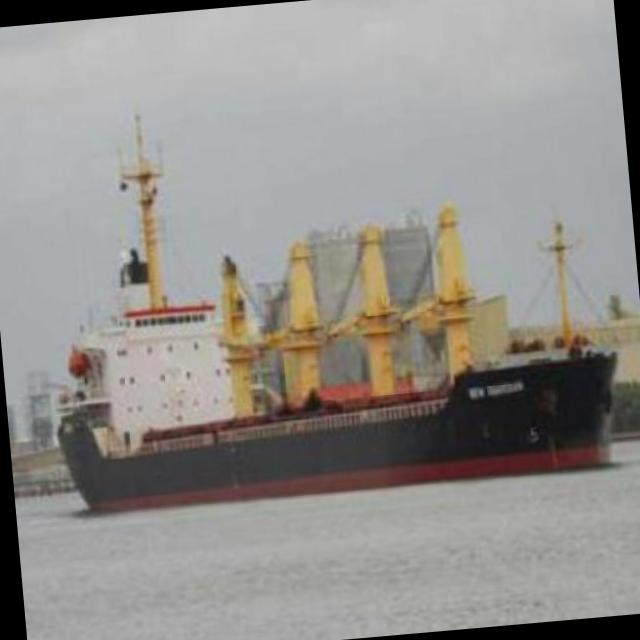boat: (21, 184, 636, 520)
